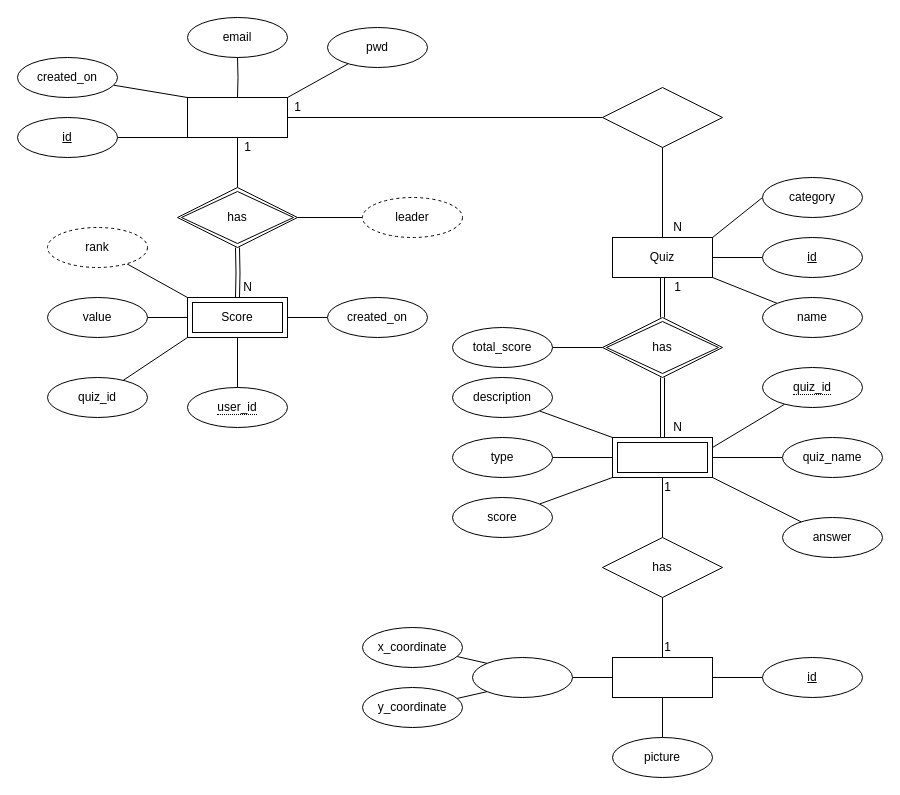
Some shapes in this 900 by 795 pixel diagram are drawn without their labels. Here are the shapes that lost their labels. From the top down, the box of each, then its label:
(186, 96, 288, 138): User
(602, 86, 722, 148): takes
(612, 436, 712, 478): Question
(472, 656, 572, 698): grid
(612, 656, 712, 698): Location
